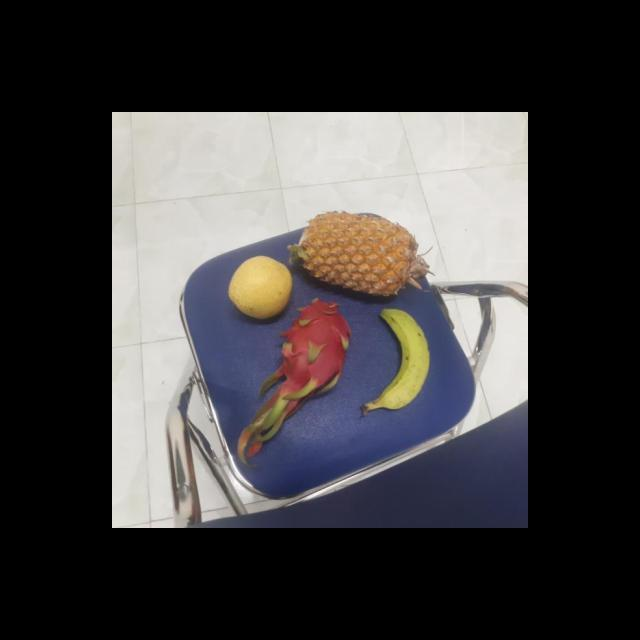banana: (363, 308, 430, 410)
pear: (224, 254, 294, 320)
pineapple: (292, 208, 418, 300)
pitaya: (274, 298, 352, 394)
